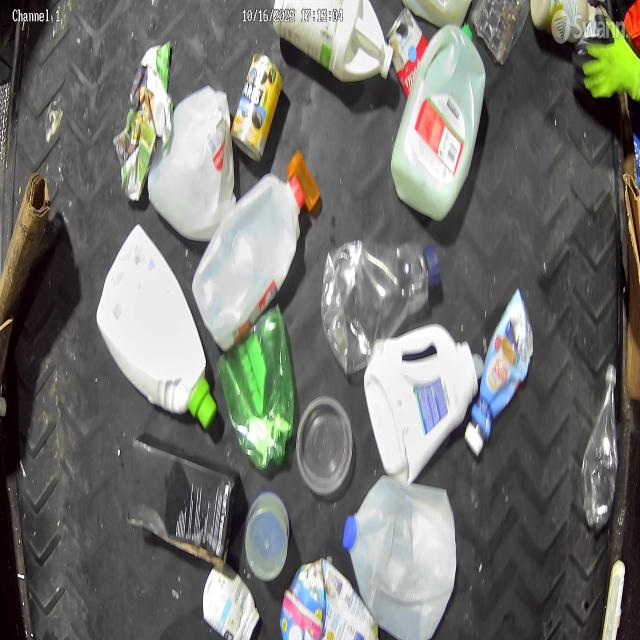can: (230, 50, 284, 164)
milk_jug: (192, 178, 307, 352), (343, 475, 457, 640), (151, 85, 228, 235)
non_white_jug: (401, 26, 486, 209)
plastic_bottle: (320, 237, 441, 375), (582, 365, 617, 528)
